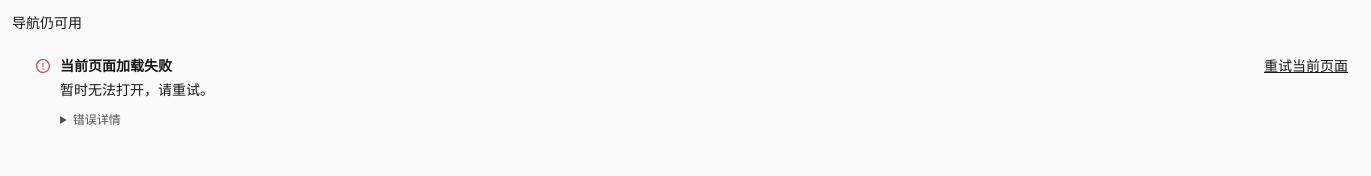
retries failed chunks locally while keeping navigation
The width and height of the screenshot is (1371, 176).
Expected: the text "暂时无法打开，请重试。" is shown, [60, 80, 214, 99]
Expected: the text "network" is not shown
Click the heading "错误详情". click: (97, 119)
box: [73, 111, 121, 128]
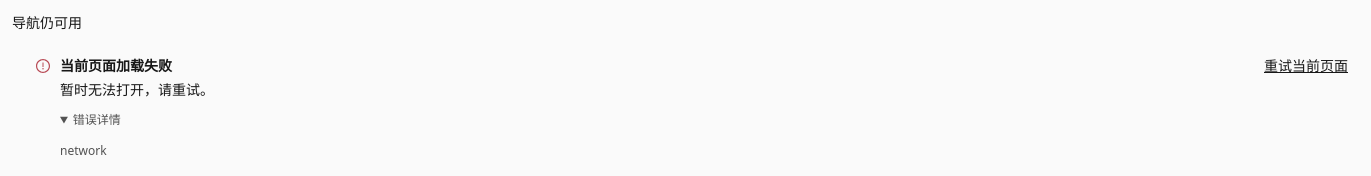
Expected: the text "network" is shown, [60, 142, 107, 159]
Click the button "重试当前页面". click: (1306, 66)
box: [1258, 54, 1354, 78]
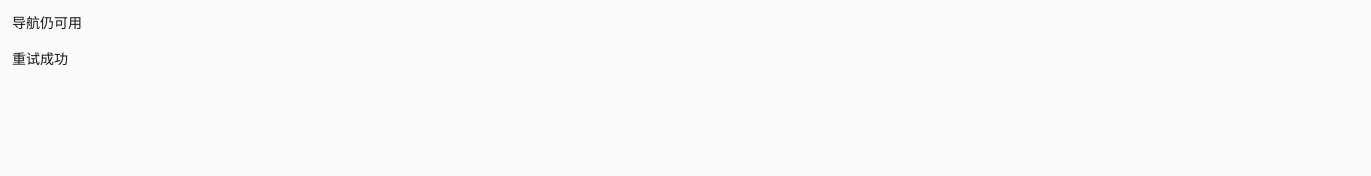
Expected: the text "导航仍可用" is shown, [12, 13, 82, 32]
Expected: the text "重试成功" is shown, [12, 49, 68, 68]
